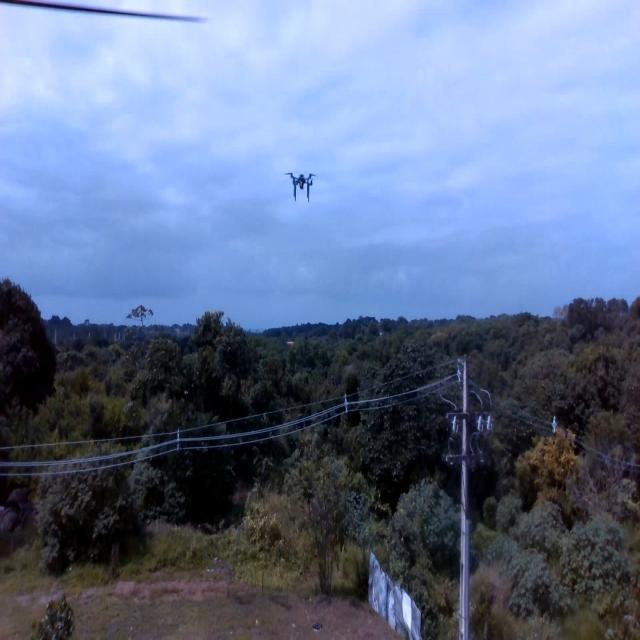-uav-: (277, 154, 325, 215)
